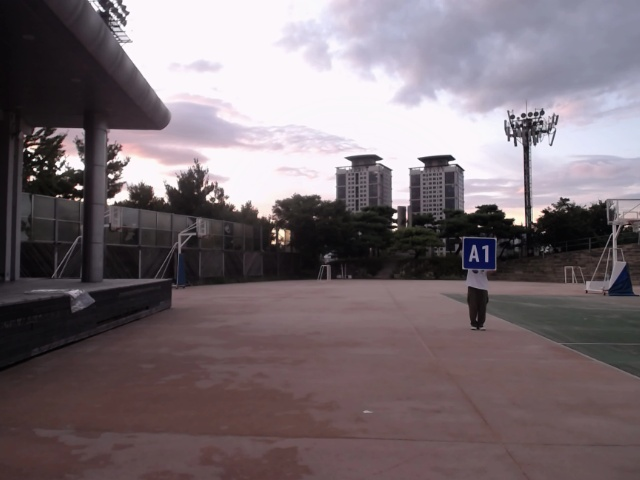delivery_a1: (463, 238, 497, 271)
